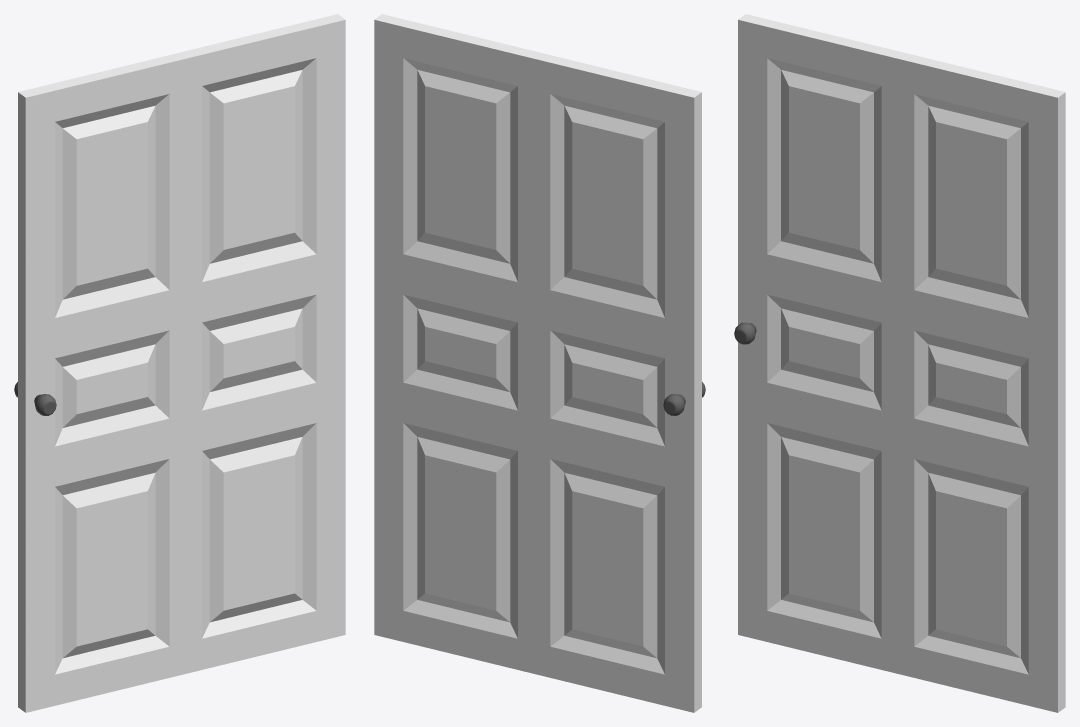
Rendered from Mesh_Door_02.FBX.
3 renders of one model, left to right at view 1: azimuth 30°, elevation 25°; view 2: azimuth 150°, elevation 25°; view 3: azimuth 330°, elevation 25°, orthographic.
Parts seen in each view (by area): view 1: Mesh_Door_02; view 2: Mesh_Door_02; view 3: Mesh_Door_02.
Part boxes in pixels (x1,y1,x2,y2): Mesh_Door_02: (14, 14, 345, 712); Mesh_Door_02: (374, 14, 705, 712); Mesh_Door_02: (734, 14, 1065, 712).
Size of the model in its own units: 118 by 217 by 19.06.
Materials: 1 (1 with a texture image).
